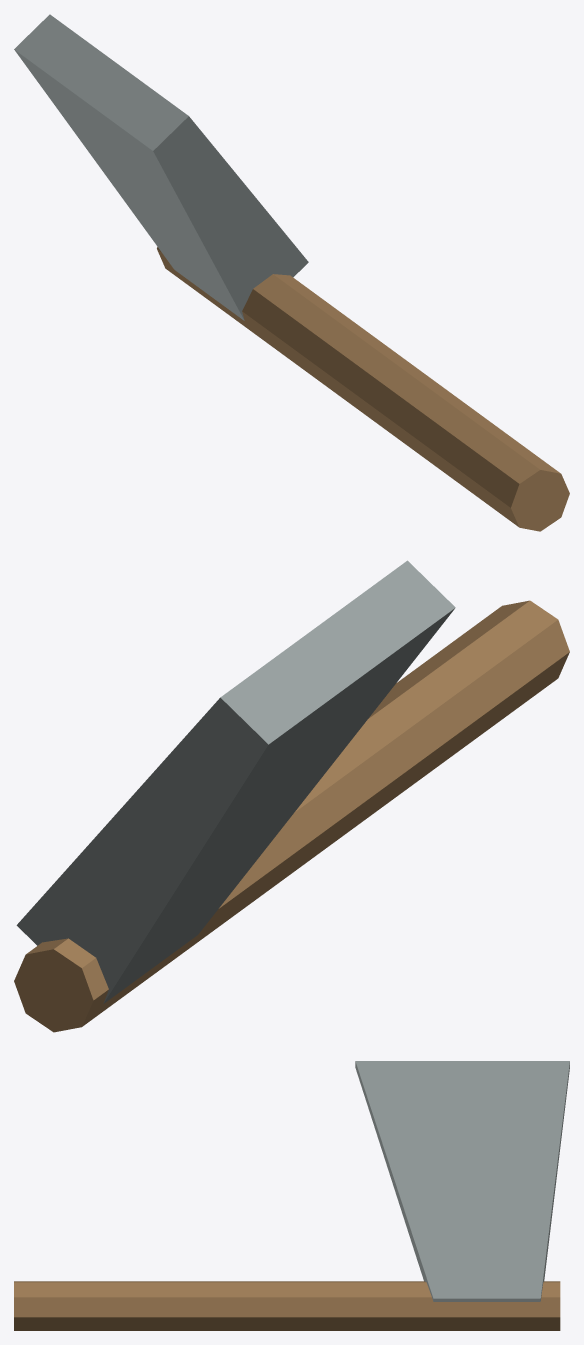
File: lumberjack_axe.glb
The picture shows the model from 3 angles, top to bottom: view 1: azimuth 30°, elevation 25°; view 2: azimuth 150°, elevation 25°; view 3: azimuth 270°, elevation 25°; orthographic projection. The views are drawn at different scales.
Parts seen in each view (by area): view 1: Axe blade, Axe handle; view 2: Axe blade, Axe handle; view 3: Axe blade, Axe handle.
Boxes of the visible parts, <box> form: Axe blade: <box>14,14,308,320</box>; Axe handle: <box>157,247,569,531</box>; Axe blade: <box>16,560,455,1003</box>; Axe handle: <box>14,600,569,1032</box>; Axe blade: <box>355,1061,569,1301</box>; Axe handle: <box>14,1281,560,1330</box>.
Size of the model in its own units: 0.1884 by 0.249 by 0.57.
